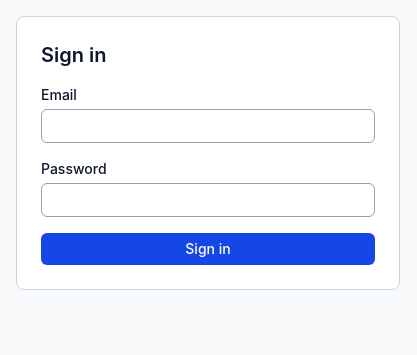
Scenario: LoginPage › shows accessible field validation errors when submitted empty
Click the button "Sign in".
click(208, 249)  # box [41,233,375,265]
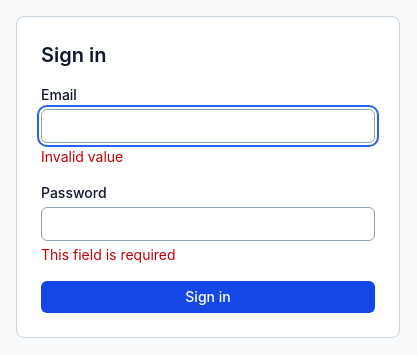
Expected: the number of messages is 2, [41,148,123,165]; [41,246,176,263]
